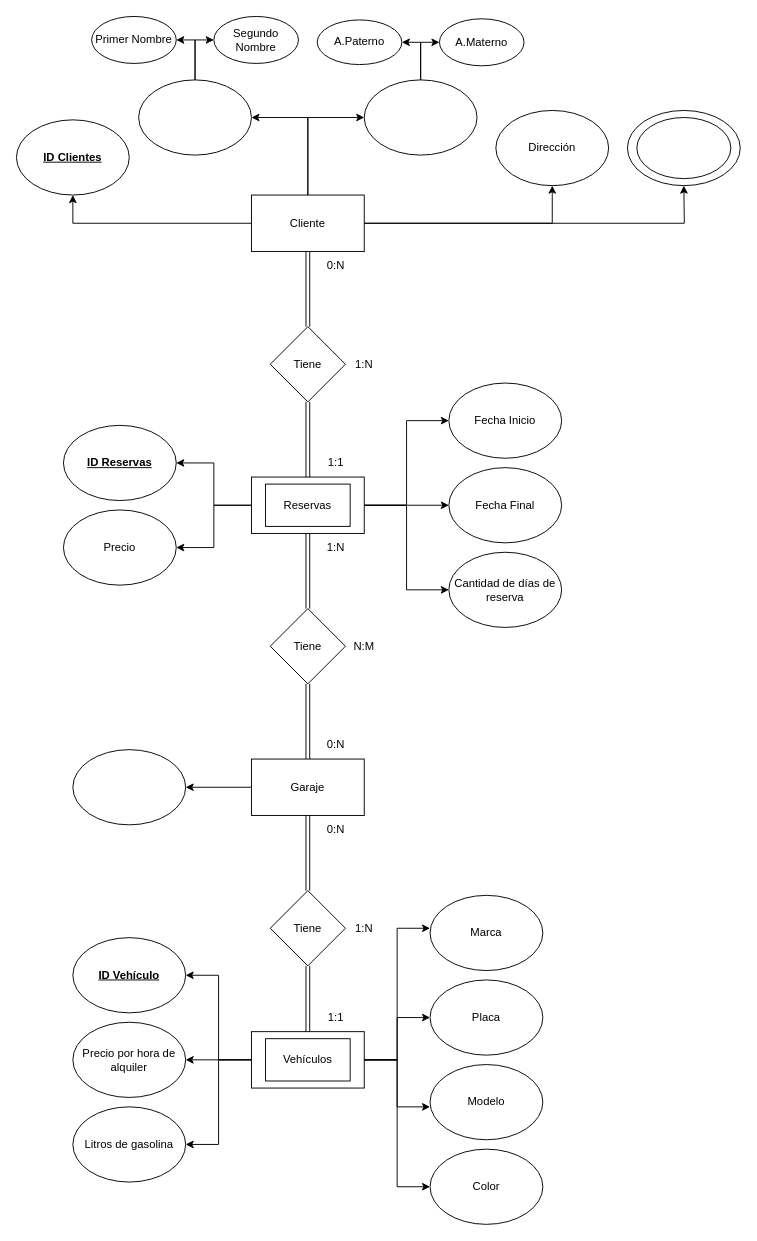
Some shapes in this 757 by 1241 pixel diagram are drawn without their labels. Each missing label, with the box of its shape:
Apellidos: (363, 79, 477, 155)
ID Garaje: (72, 749, 186, 825)
Nombres: (138, 79, 251, 155)
Teléfonos: (636, 117, 731, 179)
